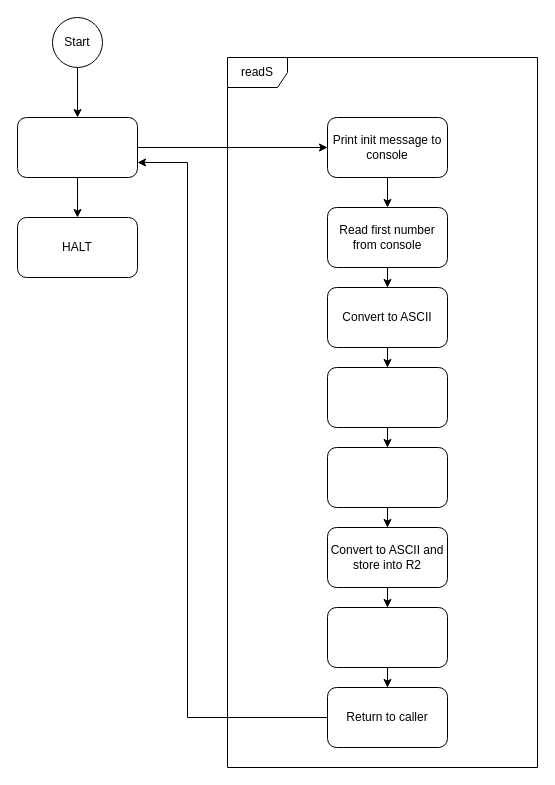
Image size: 555x785. Some labels were removed from this diagram. The centre of each missing label's shape, as x and y in pixels:
"Add R3 and R2 into R0 and return to caller" belongs at point 387,637.
"Read second number from console" belongs at point 387,477.
"Run readS" belongs at point 77,147.
"Times the number by 10 and store in R3" belongs at point 387,397.
